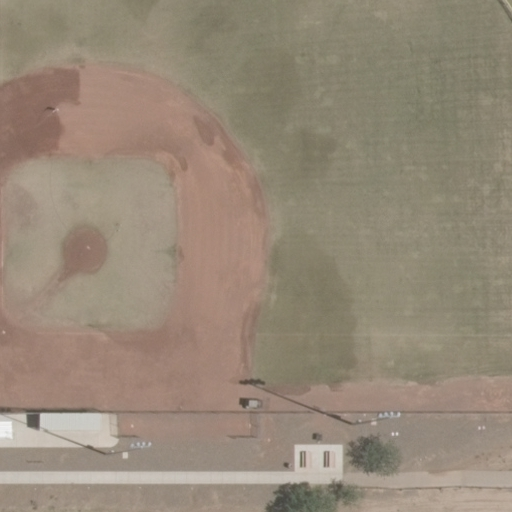DT: (353, 412, 402, 430), (117, 441, 154, 456)
